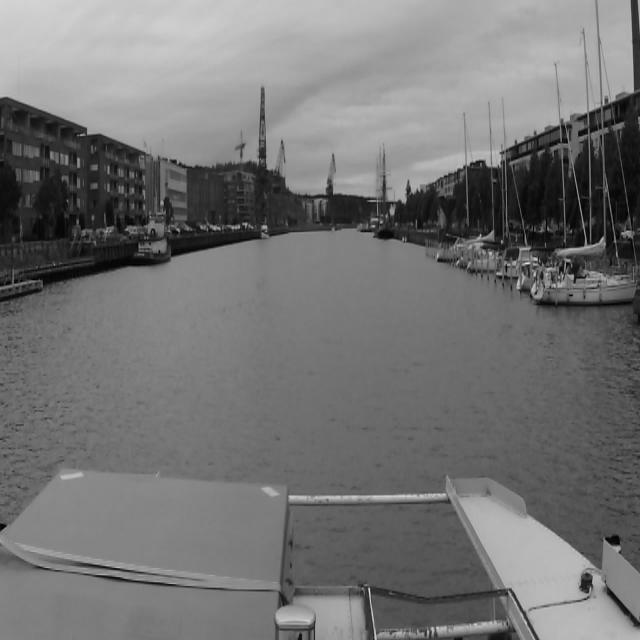ship: (530, 6, 640, 308), (466, 93, 508, 273), (131, 200, 171, 268), (260, 222, 270, 239)
